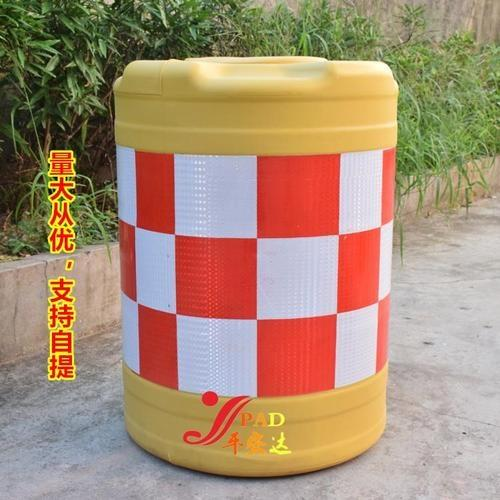cone_barrel: (113, 52, 407, 481)
